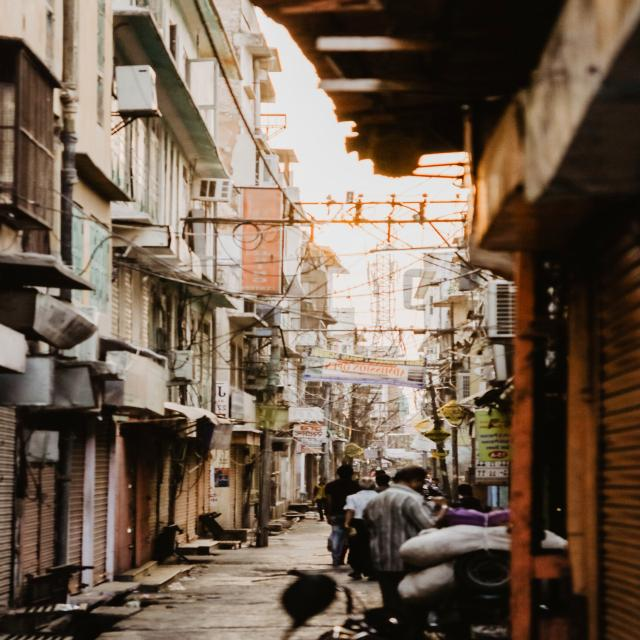adult: (362, 468, 434, 603)
